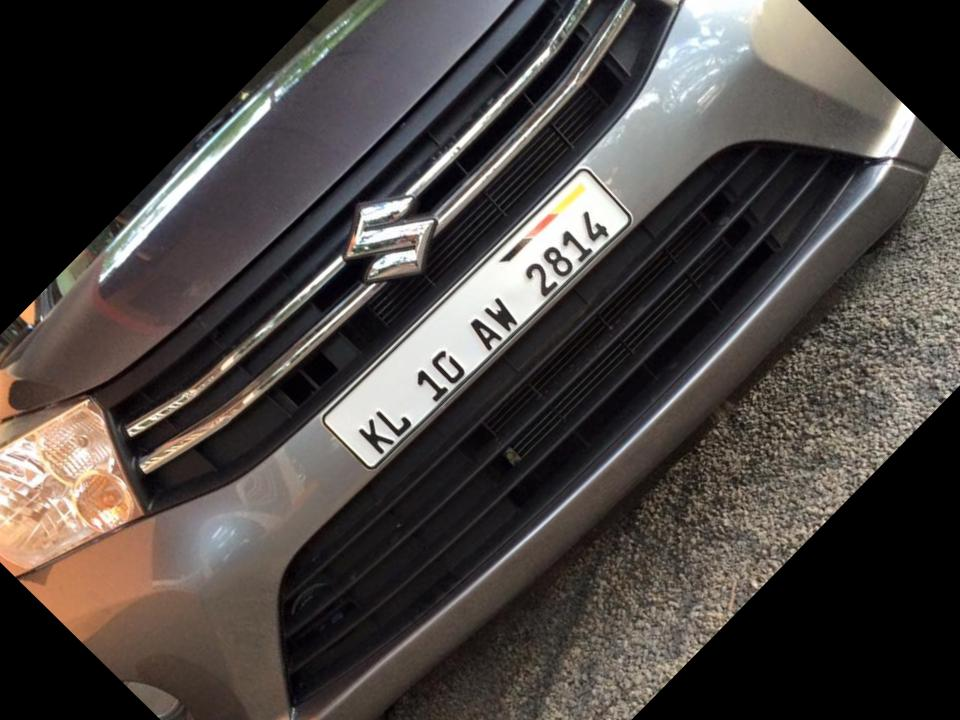plate: (305, 134, 662, 495)
